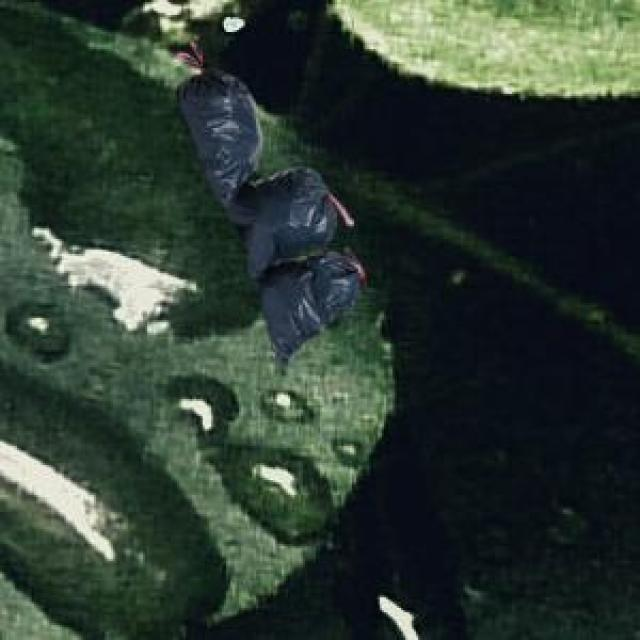Vinyl: (180, 71, 365, 362)
